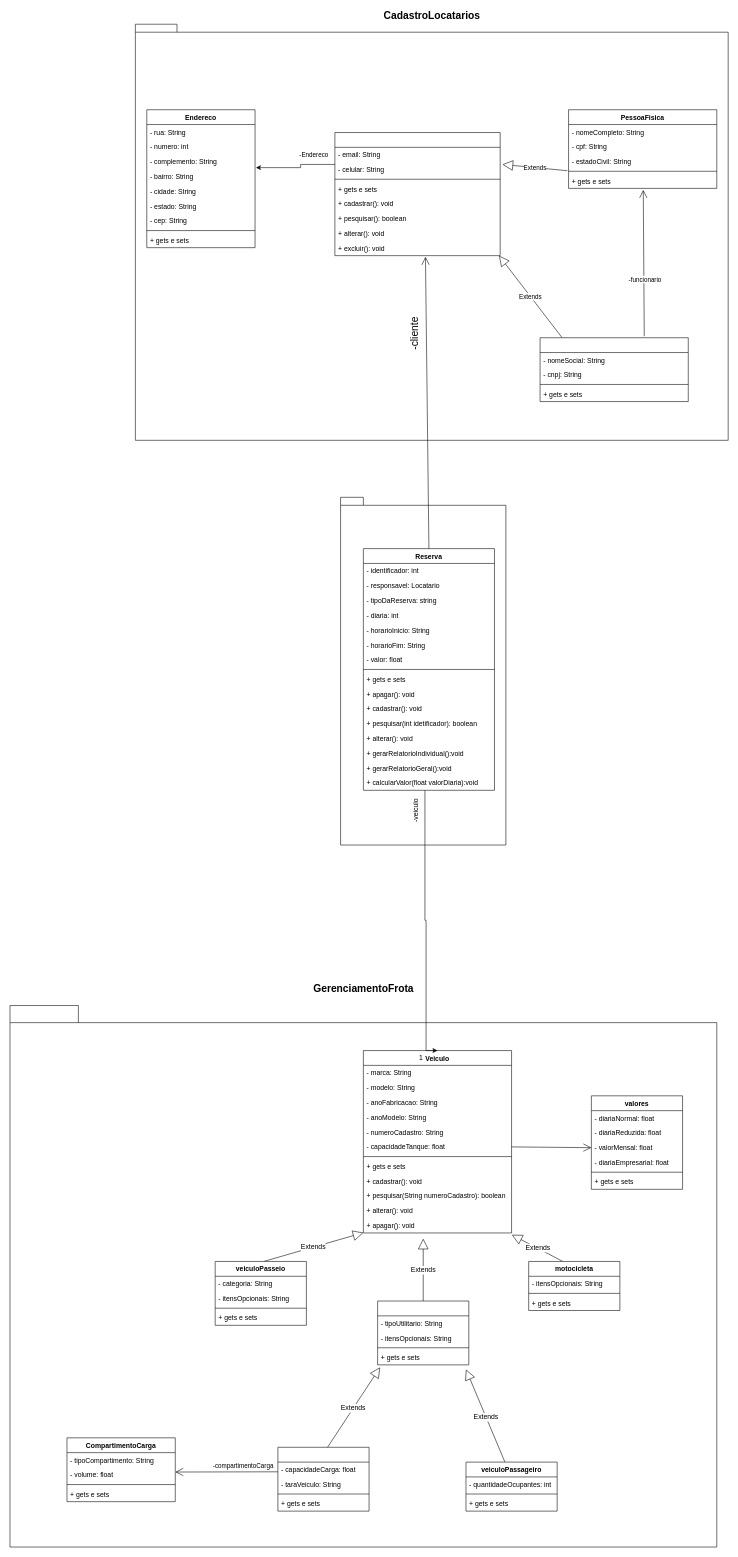
Image size: 738x1557. Some labels were removed from this diagram. Each missing label, with the box of its shape:
GerenciamentoReservas: (340, 497, 506, 845)
Locatario: (334, 132, 500, 256)
PessoaJuridica: (540, 337, 688, 402)
veiculoCarga: (277, 1447, 369, 1511)
veiculoUtilitarios: (377, 1300, 469, 1365)
